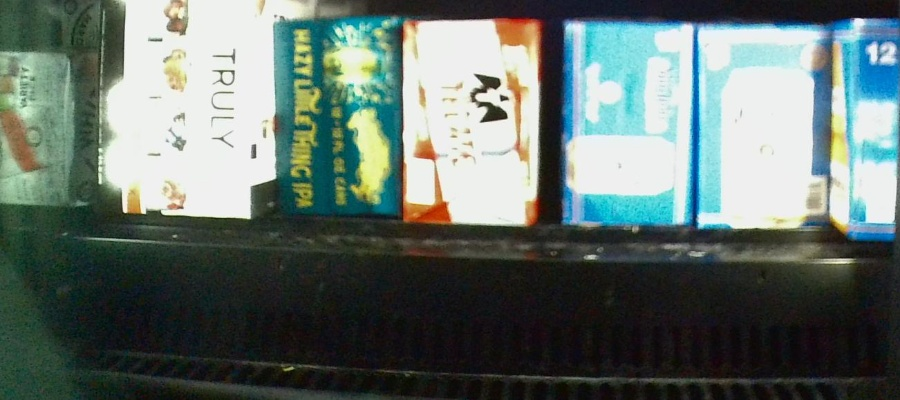bottle: (121, 1, 273, 223), (403, 18, 545, 227), (559, 16, 694, 232), (695, 21, 830, 231), (272, 17, 405, 219), (834, 17, 899, 246)
